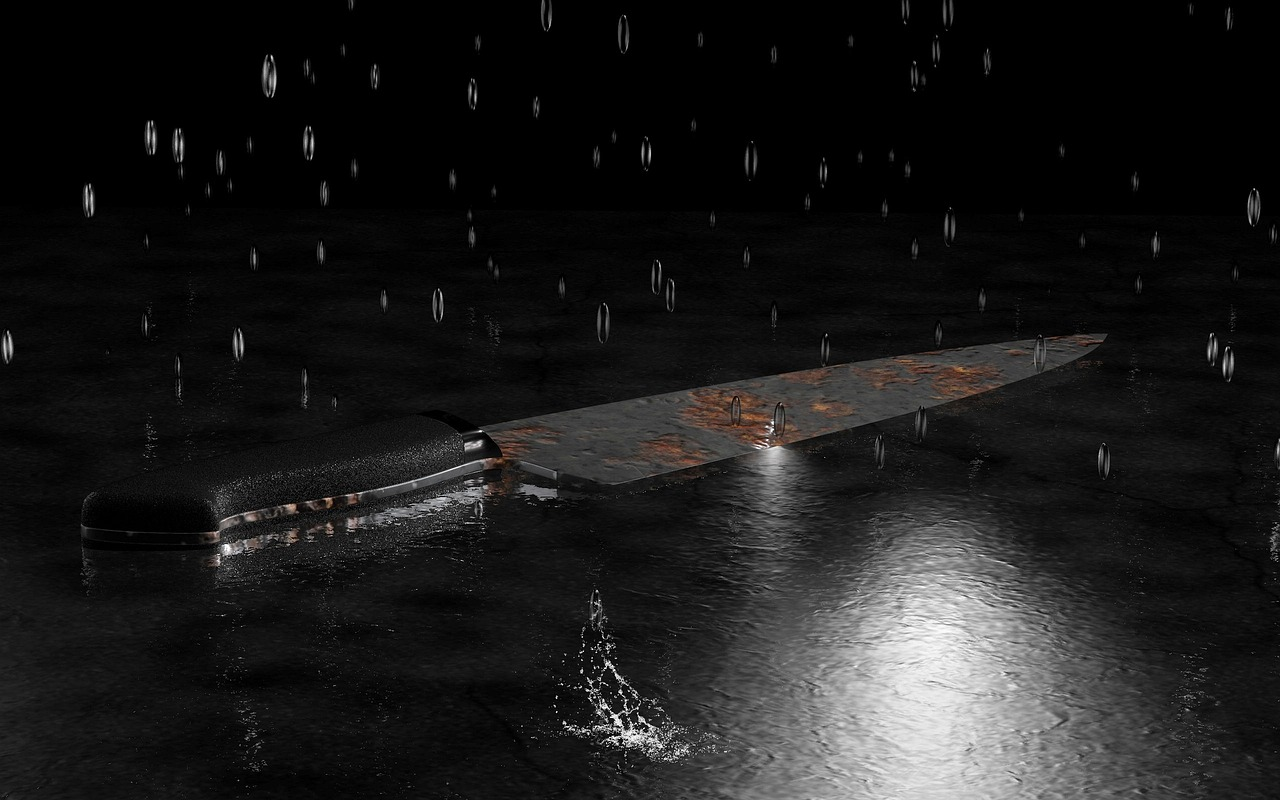knife: (70, 319, 1115, 551)
